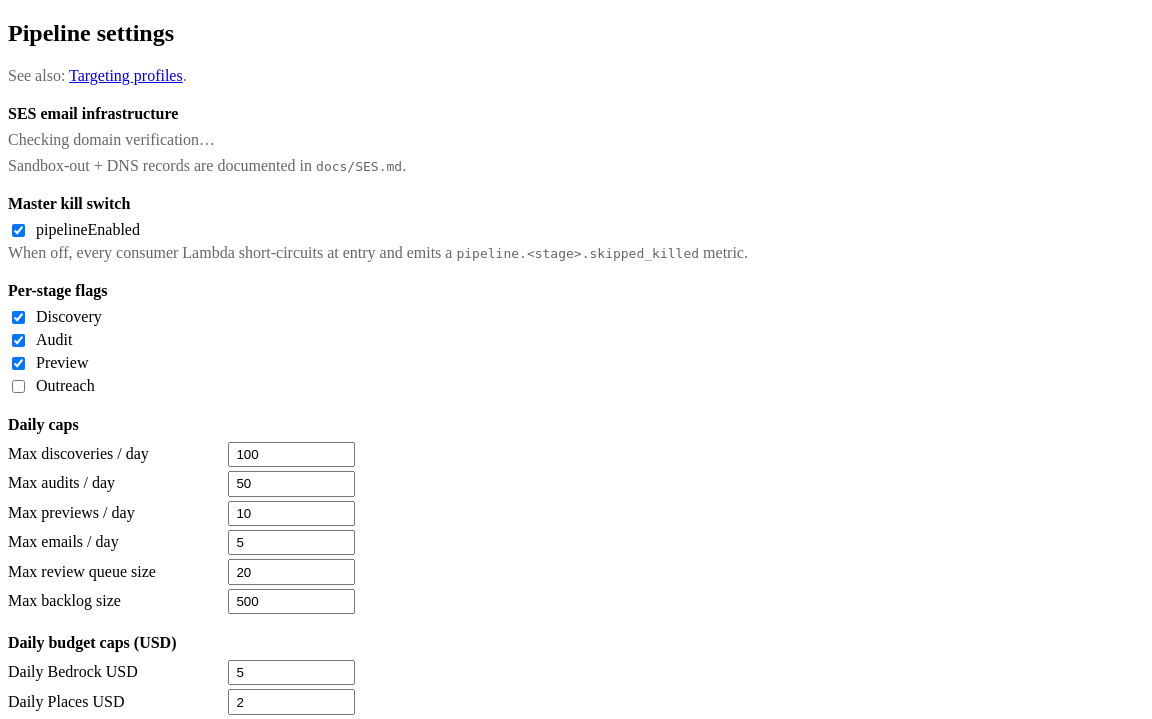
Test case: Settings › PATCH submission flips the master switch and shows Saved
Click the checkbox labelled "pipelineEnabled" at (18, 230), box [12,224,25,237]
(page scrolled)
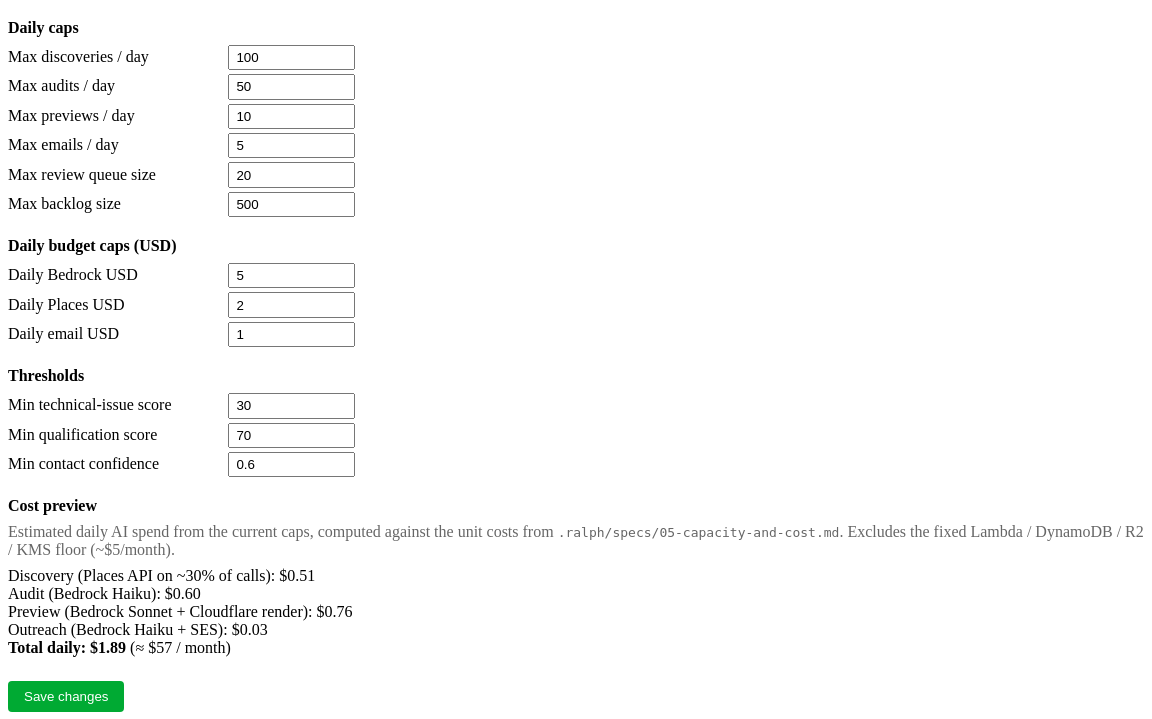
Click the button "Save changes" at (66, 697), box [8,681,124,712]
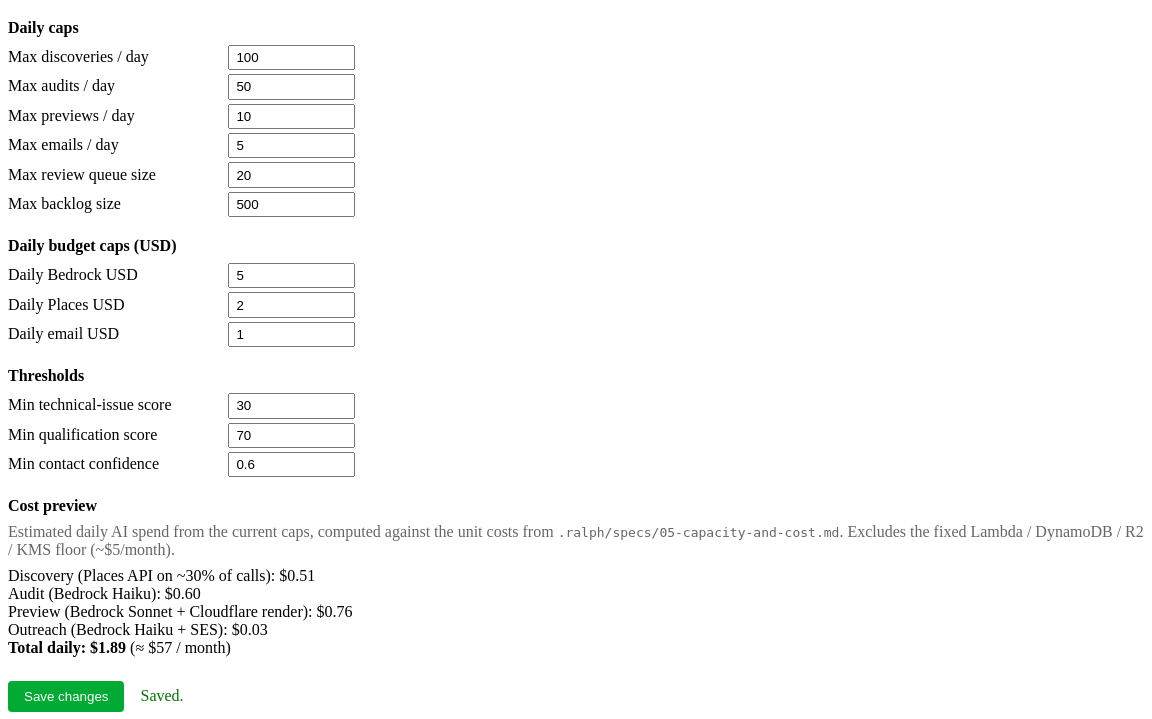
Expected: the text "Saved." is shown, [140,687,184,704]
